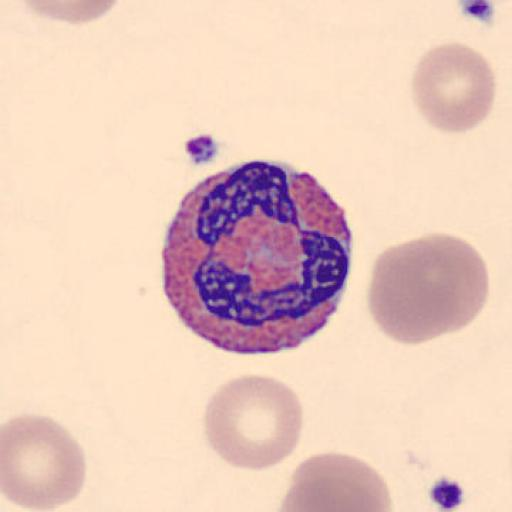RBC: (366, 232, 492, 346), (201, 372, 305, 472), (2, 413, 88, 511), (410, 41, 496, 135), (280, 450, 394, 512), (7, 0, 128, 25), (275, 479, 343, 512)
WBC: (159, 159, 353, 356)
